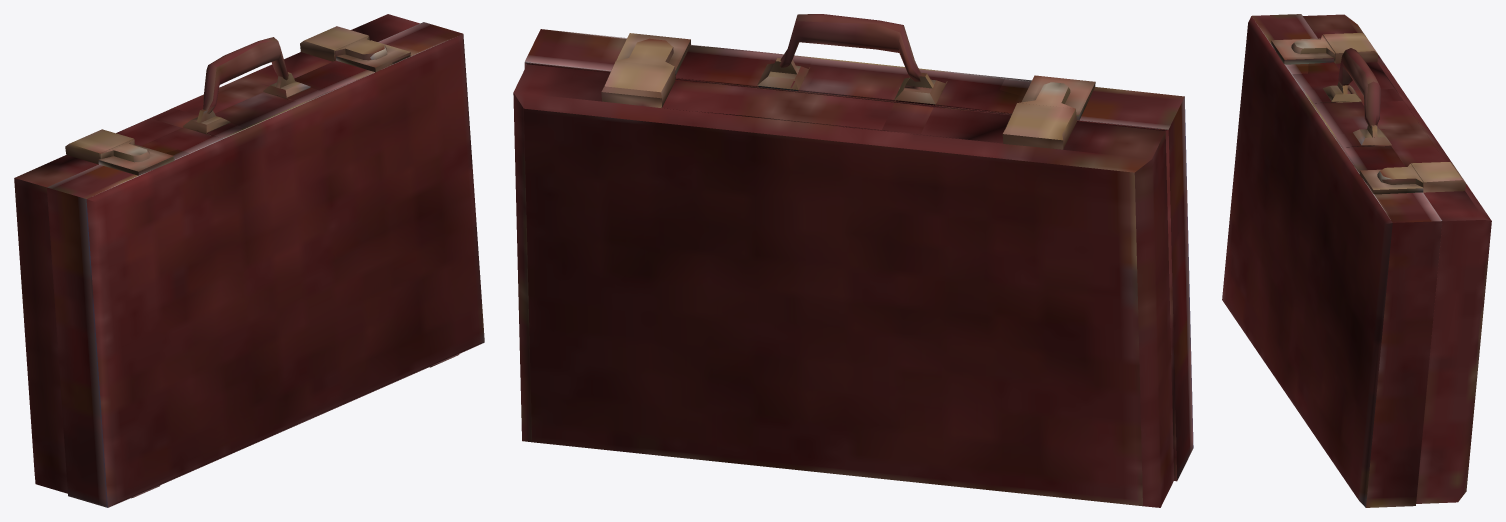
Rendered from suitcase B.fbx.
The picture shows the model from 3 angles, left to right: view 1: azimuth 30°, elevation 25°; view 2: azimuth 150°, elevation 25°; view 3: azimuth 270°, elevation 25°; orthographic projection. The views are drawn at different scales.
Visible parts, largest first — view 1: SuitcaseBTop, SuitcaseBbottom; view 2: SuitcaseBbottom, SuitcaseBTop; view 3: SuitcaseBTop, SuitcaseBbottom.
Boxes of the visible parts, <box> form: SuitcaseBTop: <box>47,22,484,507</box>; SuitcaseBbottom: <box>14,14,419,493</box>; SuitcaseBbottom: <box>513,61,1174,507</box>; SuitcaseBTop: <box>524,14,1193,481</box>; SuitcaseBTop: <box>1222,14,1442,507</box>; SuitcaseBbottom: <box>1302,14,1491,503</box>.
Bounding box in the file's own units: 107 × 77.02 × 55.1.
